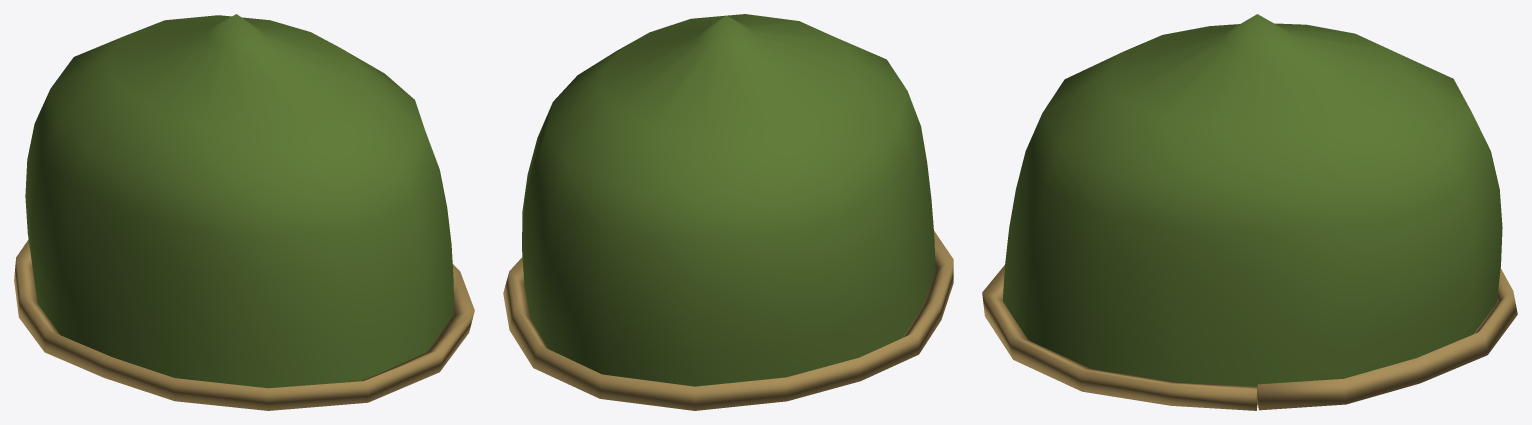
File: turtle_armor_head.glb
The picture shows the model from 3 angles, left to right: view 1: azimuth 30°, elevation 25°; view 2: azimuth 150°, elevation 25°; view 3: azimuth 270°, elevation 25°; orthographic projection. The views are drawn at different scales.
Visible parts, largest first — view 1: turtle_armor_head; view 2: turtle_armor_head; view 3: turtle_armor_head.
Boxes of the visible parts, left/top/right/bottom form: turtle_armor_head: left=14, top=14, right=474, bottom=410; turtle_armor_head: left=503, top=14, right=953, bottom=410; turtle_armor_head: left=982, top=14, right=1517, bottom=410.
Bounding box in the file's own units: 0.2403 × 0.1754 × 0.2808.
